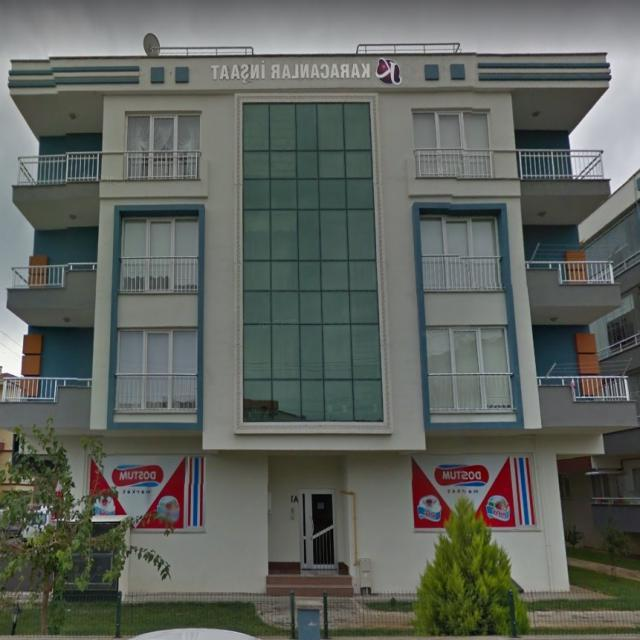Building: (1, 52, 638, 596)
